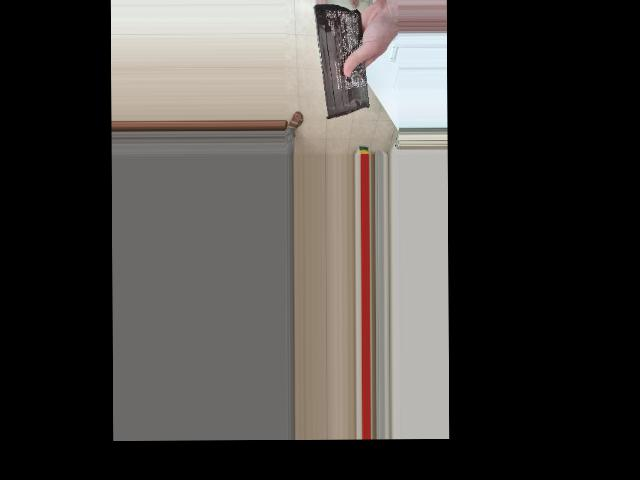chocolate: (315, 6, 365, 122)
